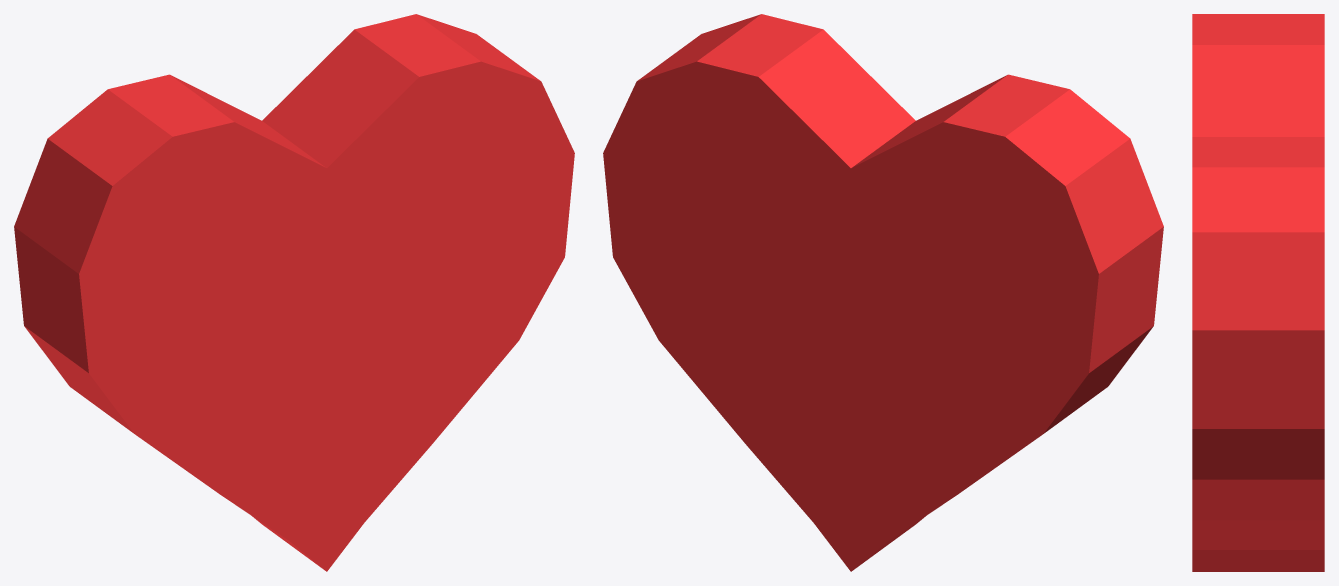
File: HeartPickup.fbx
3 renders of one model, left to right at view 1: azimuth 30°, elevation 25°; view 2: azimuth 150°, elevation 25°; view 3: azimuth 270°, elevation 25°, orthographic.
Parts seen in each view (by area): view 1: Cube; view 2: Cube; view 3: Cube.
Part boxes in pixels (left/top/right/bottom): Cube: left=14, top=14, right=574, bottom=571; Cube: left=603, top=14, right=1163, bottom=571; Cube: left=1192, top=14, right=1324, bottom=571.
Bounding box in the file's own units: 447 × 407 × 101.
